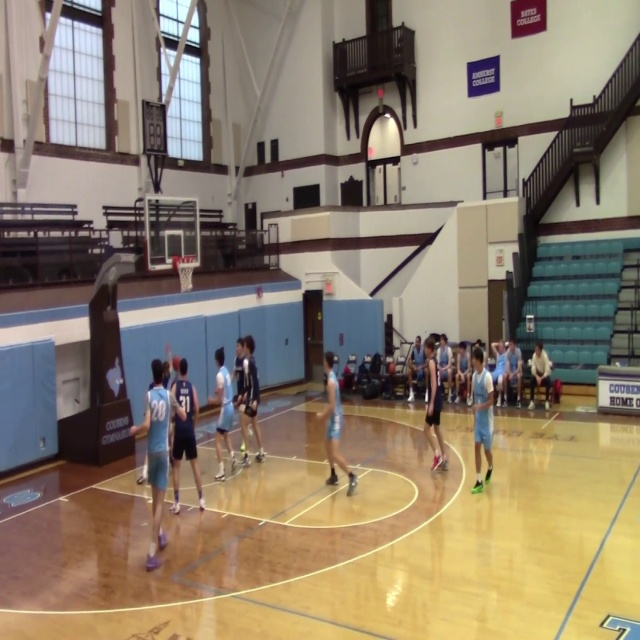Basketball: (172, 356, 181, 371)
